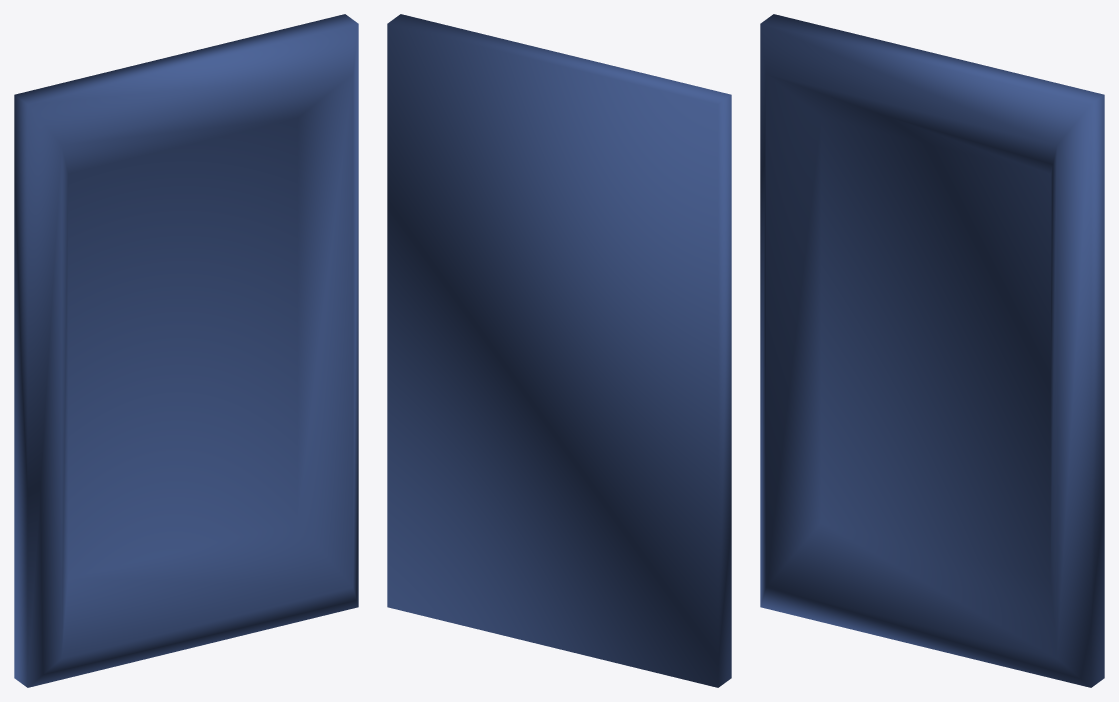
The model's file is lockpanel.glb.
The picture shows the model from 3 angles, left to right: view 1: azimuth 30°, elevation 25°; view 2: azimuth 150°, elevation 25°; view 3: azimuth 330°, elevation 25°; orthographic projection.
Visible parts, largest first — view 1: Cube.014; view 2: Cube.014; view 3: Cube.014.
Part boxes in pixels (x1,y1,x2,y2): Cube.014: (14, 14, 358, 687); Cube.014: (387, 14, 731, 687); Cube.014: (760, 14, 1104, 687).
Bounding box in the file's own units: 0.2321 × 0.391 × 0.0335.
